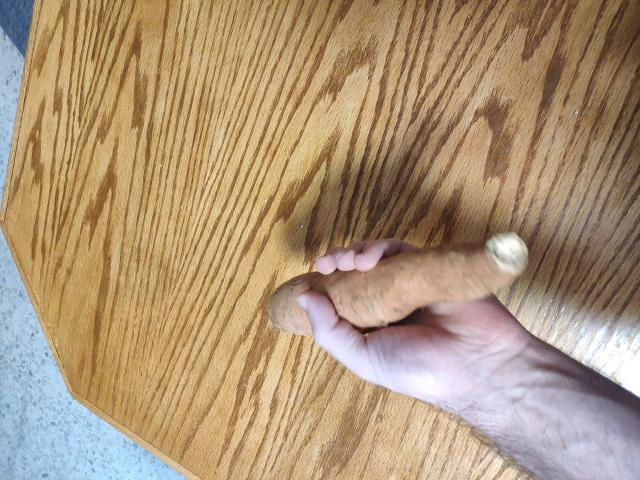sweet_potato: (288, 242, 549, 348)
